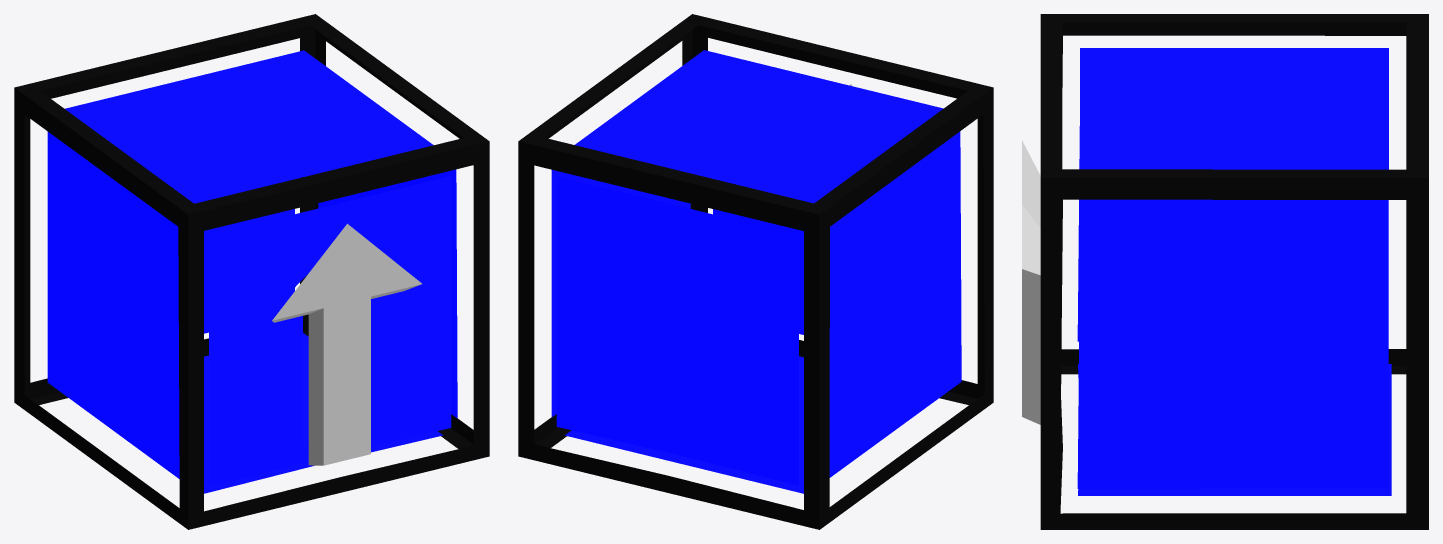
The model's file is Blue_Block.fbx.
The picture shows the model from 3 angles, left to right: view 1: azimuth 30°, elevation 25°; view 2: azimuth 150°, elevation 25°; view 3: azimuth 270°, elevation 25°; orthographic projection. The views are drawn at different scales.
Visible parts, largest first — view 1: Cube.002, Cube, Cube.001; view 2: Cube.002, Cube; view 3: Cube.002, Cube, Cube.001.
Boxes of the visible parts, <box> form: Cube.002: <box>47,50,457,493</box>; Cube: <box>14,14,489,529</box>; Cube.001: <box>272,223,421,465</box>; Cube.002: <box>551,50,961,493</box>; Cube: <box>518,14,993,529</box>; Cube.002: <box>1077,48,1391,495</box>; Cube: <box>1040,14,1428,529</box>; Cube.001: <box>1022,140,1040,424</box>.
Bounding box in the file's own units: 200 × 200 × 210.
